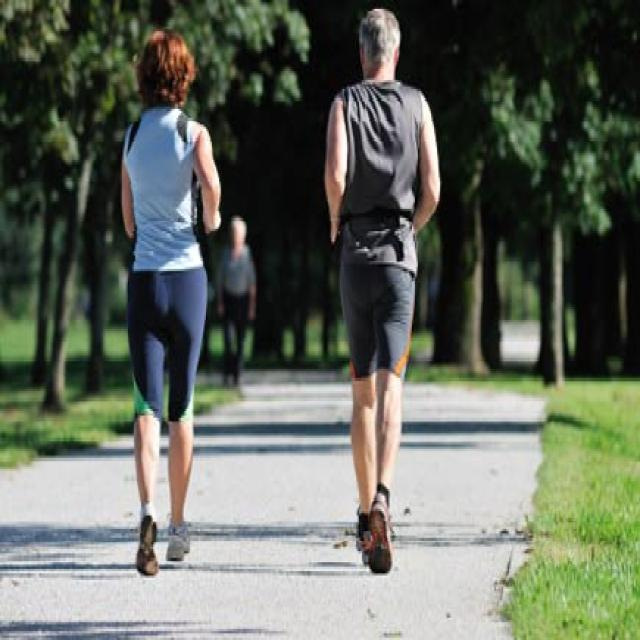Person: (326, 6, 441, 574), (111, 29, 220, 576)
